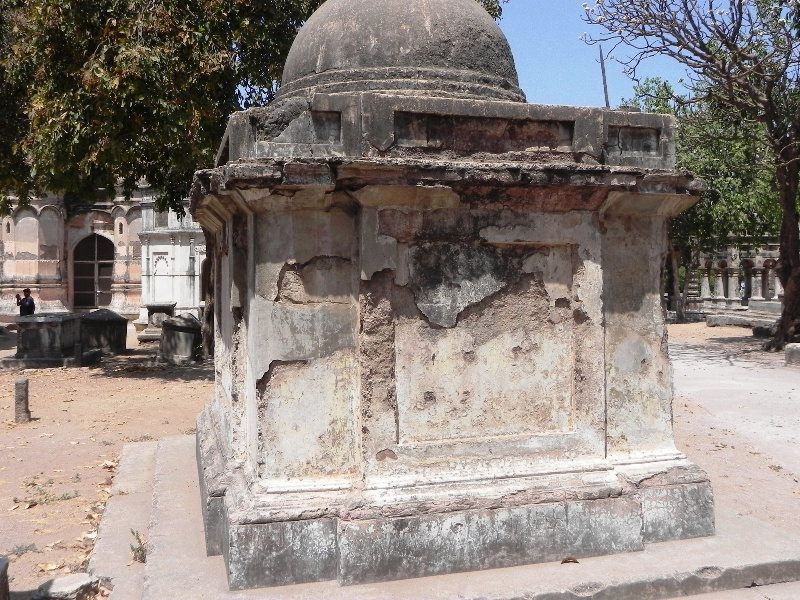Spalling: (356, 258, 402, 434), (254, 353, 315, 411), (568, 302, 588, 409)
